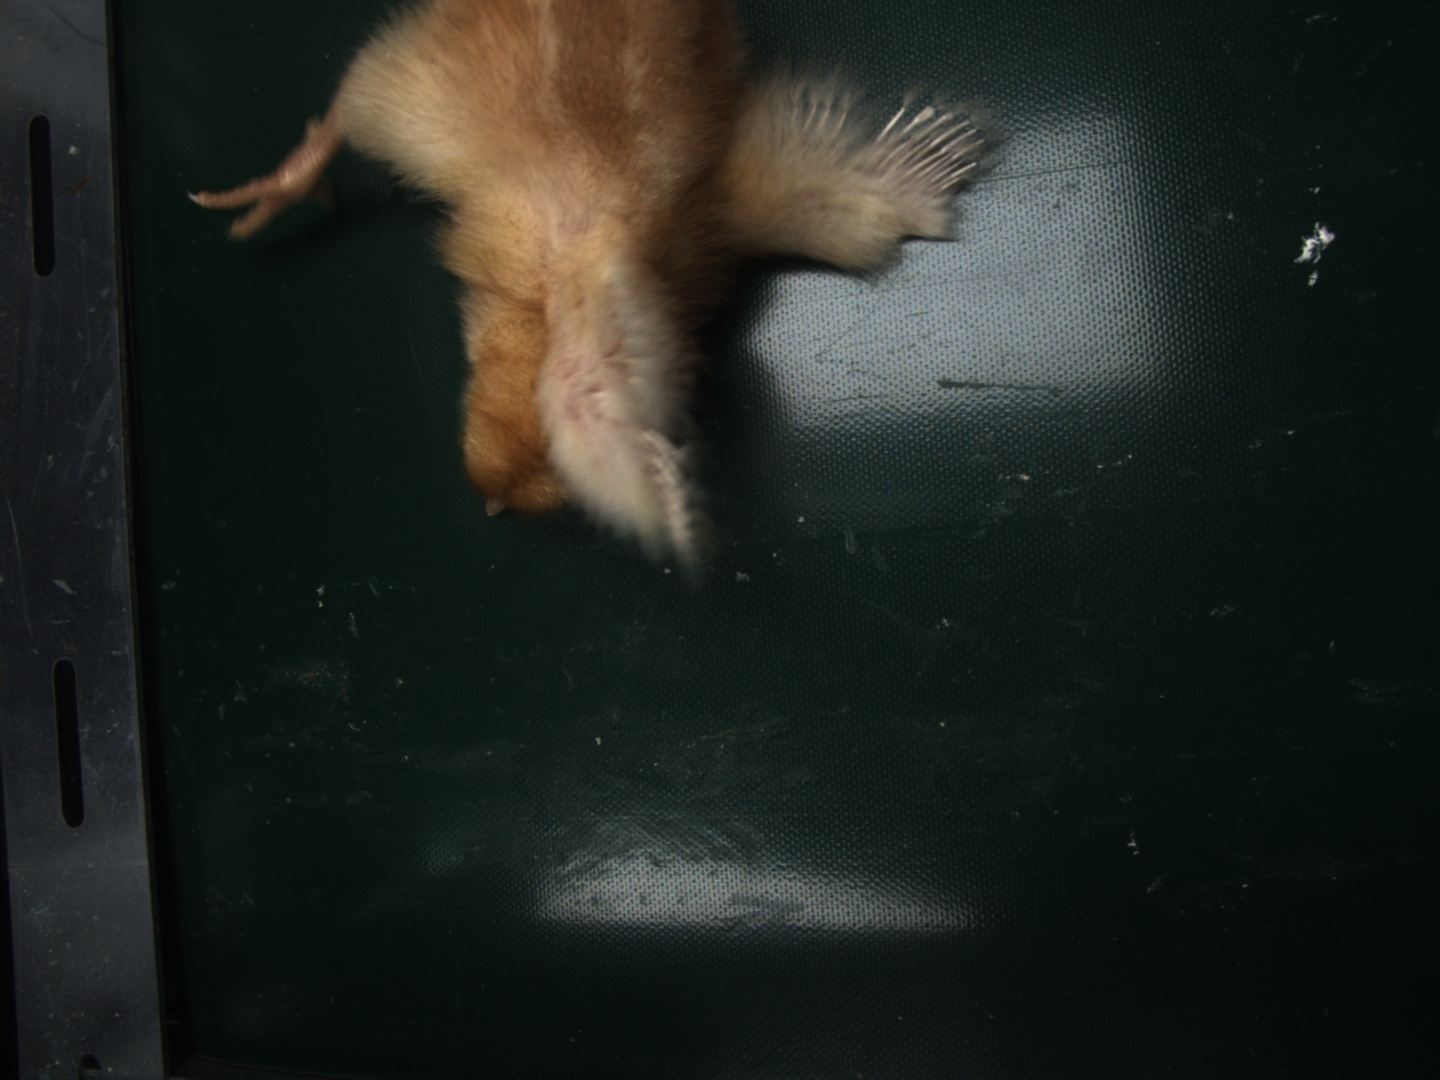female: (866, 103, 984, 205)
